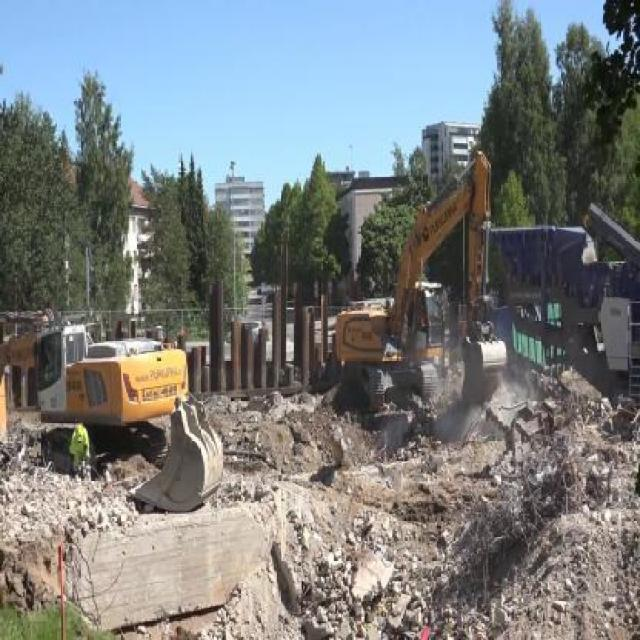Excavator: (334, 150, 509, 424), (0, 312, 188, 462)
